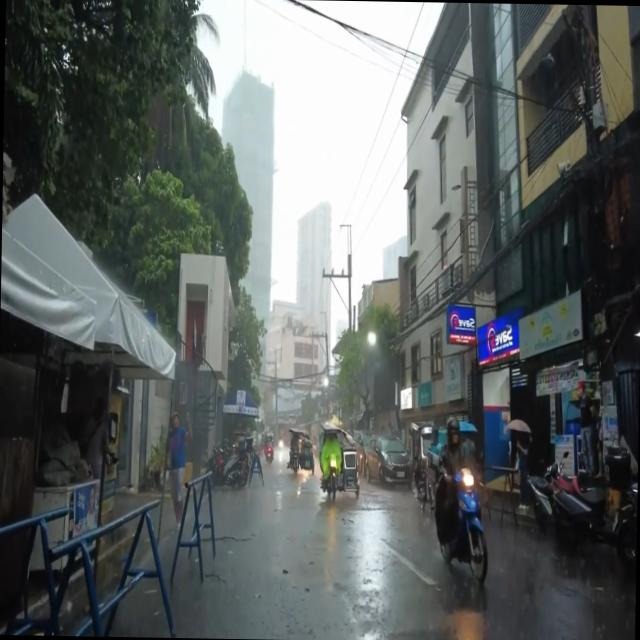half: (446, 414, 462, 448)
